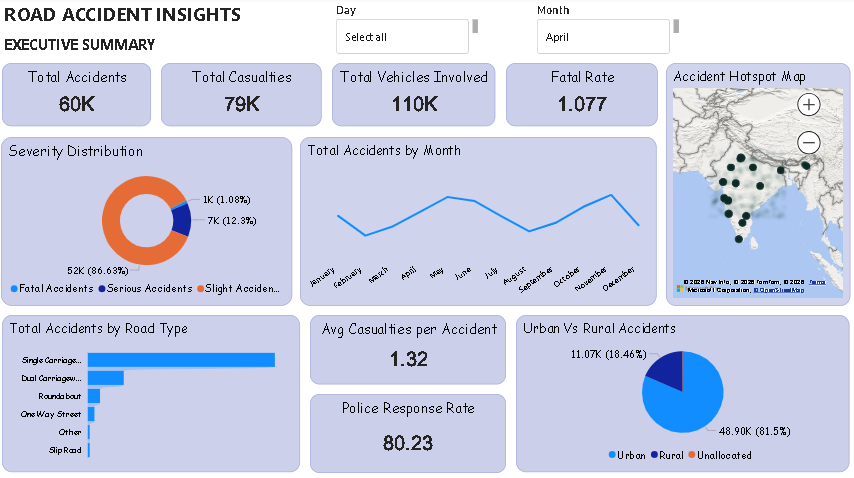

The dashboard page shown, as its layout file describes it:
{"tool":"powerbi","page":{"name":"Page 1","canvas":[1280,720],"ordinal":0},"visuals":[{"type":"textbox","box":[10,0,726.2,47.5],"z":0},{"type":"textbox","box":[10.4,48.3,274.3,48.3],"z":1000},{"type":"card","title":"Total Accidents","fields":{"Values":["Accident Data Analysis.Total Accidents"]},"box":[12.1,96.6,219.1,93.2],"z":2000},{"type":"card","title":"Total Casualties","fields":{"Values":["Sum(Accident Data Analysis.Number_of_Casualties)"]},"box":[245,96.6,236.3,93.2],"z":3000},{"type":"card","title":"Total Vehicles Involved","fields":{"Values":["Sum(Accident Data Analysis.Number_of_Vehicles)"]},"box":[496.8,96.6,239.8,93.2],"z":4000},{"type":"donutChart","title":"Severity Distribution","fields":{"Y":["Accident Data Analysis.Fatal Accidents","Accident Data Analysis.Serious Accidents","Accident Data Analysis.Slight Accidents"]},"box":[10.4,205.3,427.8,248.4],"z":5000},{"type":"lineChart","fields":{"Y":["Accident Data Analysis.Total Accidents"],"Category":["Accident Data Analysis.Date.Variation.Date Hierarchy.Month"]},"box":[450.2,205.3,524.4,248.4],"z":6000},{"type":"barChart","title":"Total Accidents by Road Type","fields":{"Category":["Accident Data Analysis.Road Type Name"],"Y":["Accident Data Analysis.Total Accidents"]},"box":[12.1,467.5,438.2,231.2],"z":7000},{"type":"map","title":"Accident Hotspot Map","fields":{"Y":["Accident Data Analysis.latitude"],"X":["Accident Data Analysis.longitude"],"Size":["Sum(Accident Data Analysis.Number_of_Casualties)"]},"box":[986.7,96.6,270.8,357.1],"z":8000},{"type":"pieChart","title":"Urban Vs Rural Accidents","fields":{"Category":["Accident Data Analysis.Area Type"],"Y":["Accident Data Analysis.Total Accidents"]},"box":[767.7,467.5,489.9,231.2],"z":9000},{"type":"card","title":"Police Response Rate","fields":{"Values":["Accident Data Analysis.Police Attendance %"]},"box":[464,583.1,288.1,115.6],"z":10000},{"type":"card","title":"Avg Casualties per Accident","fields":{"Values":["Accident Data Analysis.Avg Casualties"]},"box":[464,467.5,288.1,101.8],"z":11000},{"type":"card","title":"Fatal Rate ","fields":{"Values":["Accident Data Analysis.Fatal Rate %"]},"box":[752.1,96.6,222.5,93.2],"z":12000},{"type":"advancedSlicerVisual","title":"Day ","fields":{"Values":["Accident Data Analysis.Day Name"]},"box":[498.1,8.8,218.9,80.8],"z":12001},{"type":"advancedSlicerVisual","title":"Month","fields":{"Values":["Accident Data Analysis.Month"]},"box":[793.5,8.8,218.9,80.8],"z":12002}]}

Visuals, with their boxes in screenshot pixels (x1, y1, x2, y2), scaled from the page's 1280x720 canvas onto the 854x478 screenshot:
textbox: locate(7, 0, 491, 32)
textbox: locate(7, 32, 190, 64)
"Total Accidents" card: locate(8, 64, 154, 126)
"Total Casualties" card: locate(163, 64, 321, 126)
"Total Vehicles Involved" card: locate(331, 64, 491, 126)
"Severity Distribution" donutChart: locate(7, 136, 292, 301)
lineChart - Accident Data Analysis.Total Accidents x Accident Data Analysis.Date.Variation.Date Hierarchy.Month: locate(300, 136, 650, 301)
"Total Accidents by Road Type" barChart: locate(8, 310, 300, 464)
"Accident Hotspot Map" map: locate(658, 64, 839, 301)
"Urban Vs Rural Accidents" pieChart: locate(512, 310, 839, 464)
"Police Response Rate" card: locate(310, 387, 502, 464)
"Avg Casualties per Accident" card: locate(310, 310, 502, 378)
"Fatal Rate " card: locate(502, 64, 650, 126)
"Day " advancedSlicerVisual: locate(332, 6, 478, 59)
"Month" advancedSlicerVisual: locate(529, 6, 675, 59)
